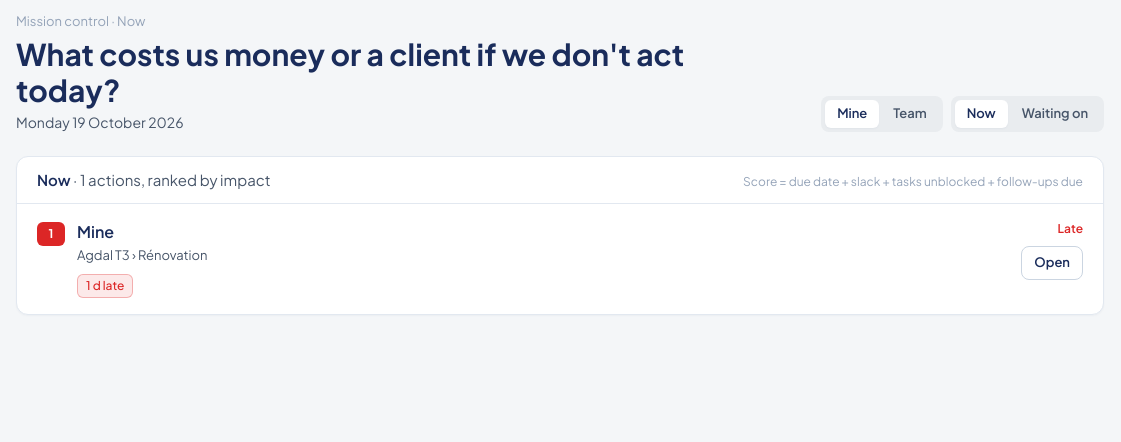
Test case: MissionControlView — Maintenant › shows only my tasks under Mine, and a colleague's under Team
Expected: the text "Theirs" is not shown
Click the button "Team" at (910, 114), box [881,100,939,128]
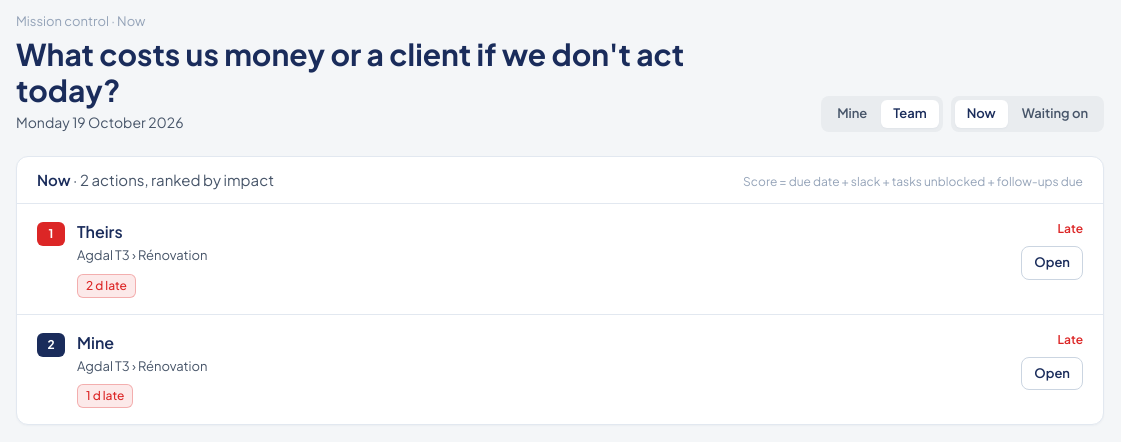
Now the heading "Theirs" is shown, box [77,221,123,242]
